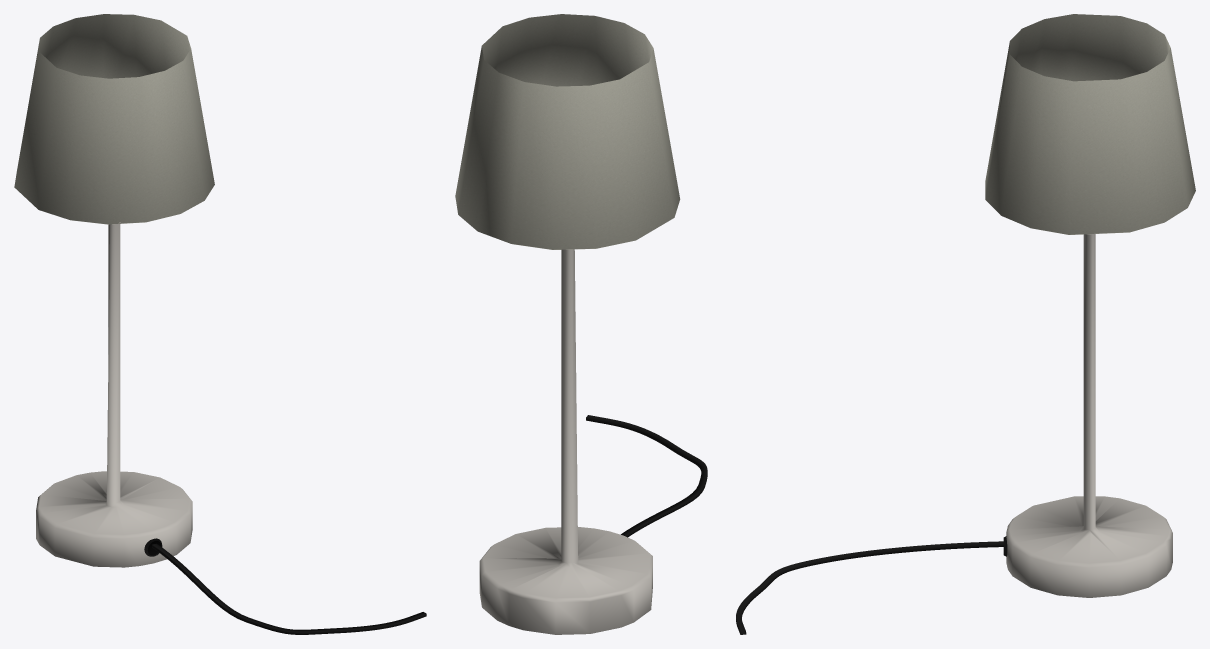
The model's file is desk lamp.fbx.
3 renders of one model, left to right at view 1: azimuth 30°, elevation 25°; view 2: azimuth 150°, elevation 25°; view 3: azimuth 270°, elevation 25°, orthographic. The views are drawn at different scales.
Visible parts, largest first — view 1: desk_lamp; view 2: desk_lamp; view 3: desk_lamp.
Boxes of the visible parts, x1,y1,x2,y2 form: desk_lamp: [14, 14, 426, 634]; desk_lamp: [455, 14, 707, 634]; desk_lamp: [736, 14, 1195, 634].
Bounding box in the file's own units: 73.06 × 147 × 119.
Materials: 1 (1 with a texture image).
